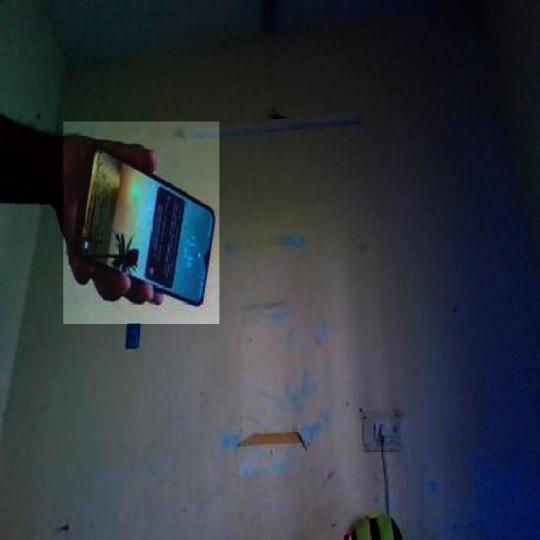phone: (65, 153, 232, 310)
